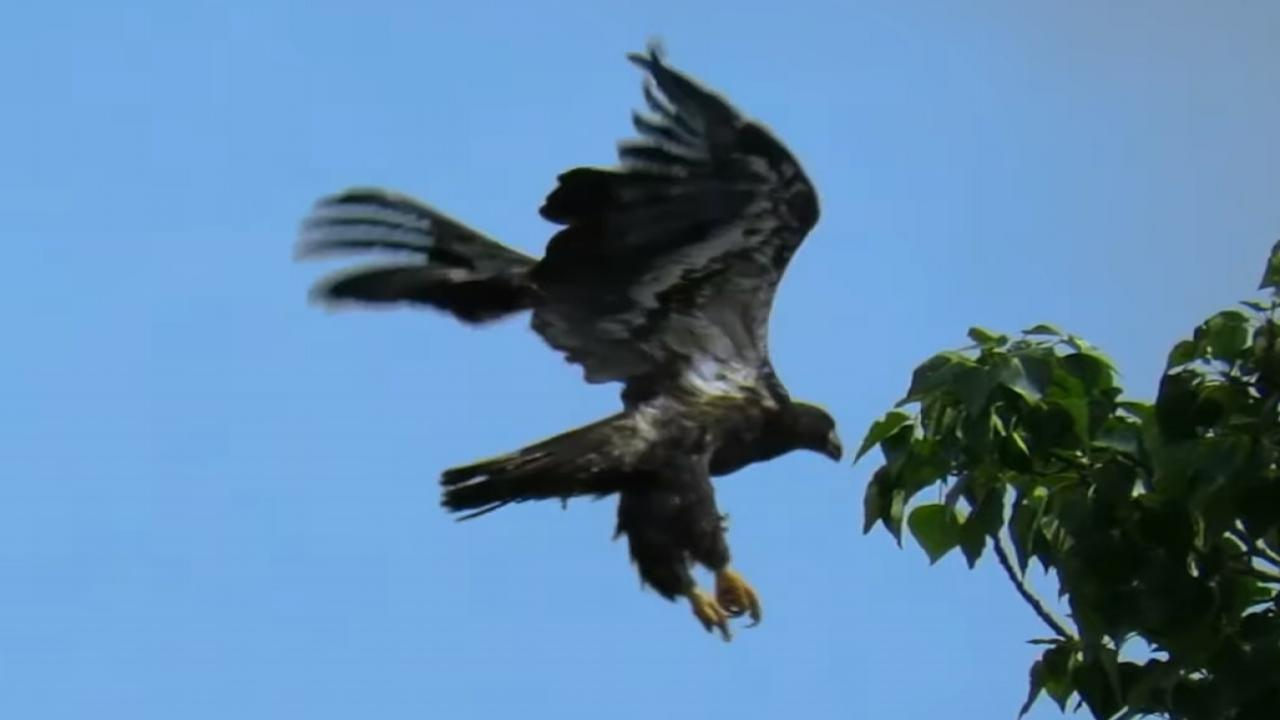Bird: (283, 22, 858, 645)
